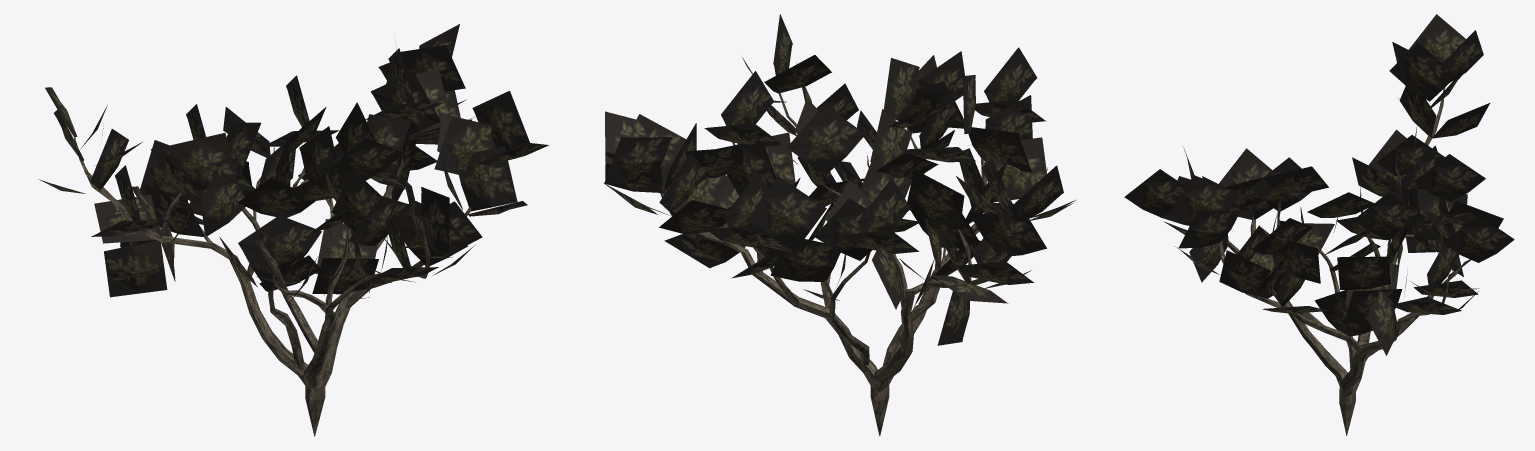
File: 1_BUSH_01_3-transformed.glb
3 renders of one model, left to right at view 1: azimuth 30°, elevation 25°; view 2: azimuth 150°, elevation 25°; view 3: azimuth 270°, elevation 25°, orthographic. The views are drawn at different scales.
Visible parts, largest first — view 1: default; view 2: default; view 3: default.
Boxes of the visible parts, x1,y1,x2,y2 form: default: [38, 24, 549, 436]; default: [603, 14, 1075, 436]; default: [1124, 14, 1514, 435].
Size of the model in its own units: 14.45 by 10.56 by 11.82.
2 materials, 2 textured.
